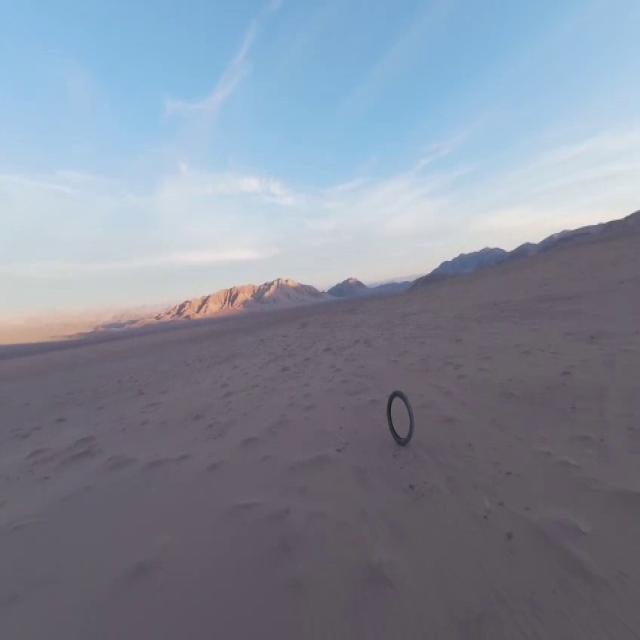Tire: (387, 390, 414, 445)
